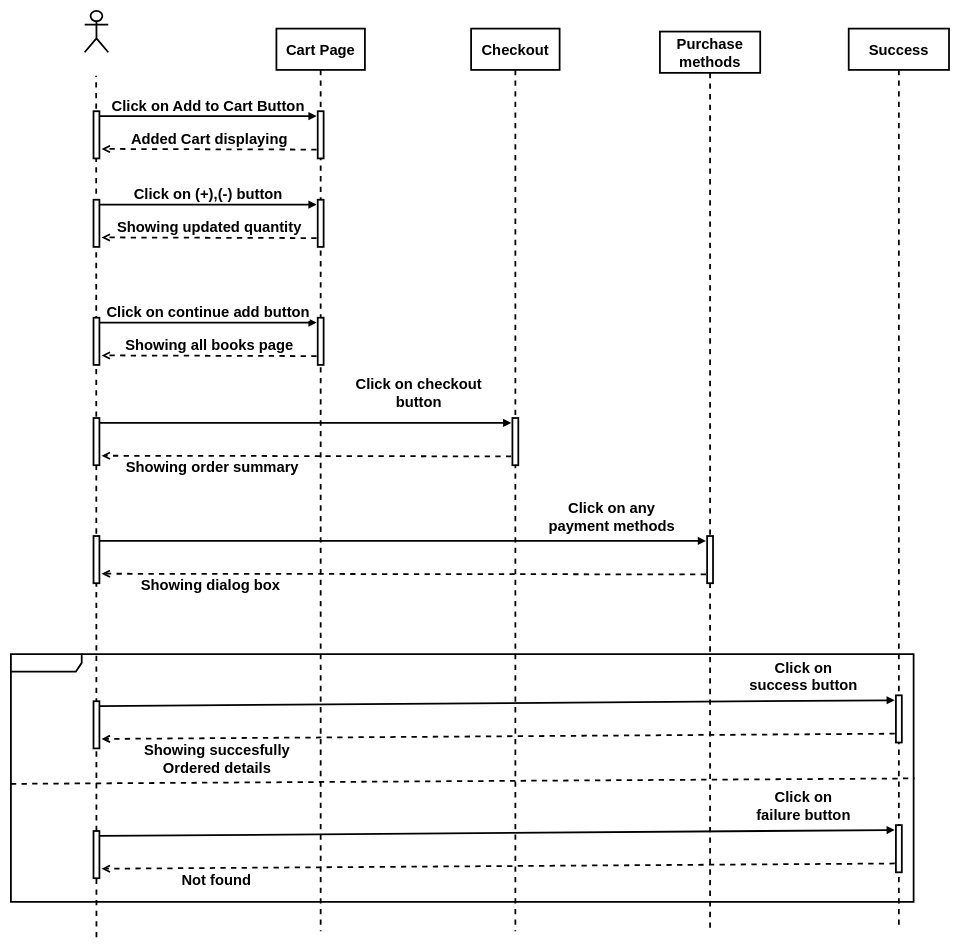
This 960x949 diagram has some shape labels left out. The centre of each missing label's shape, as x and y in pixels:
"Alternative" goes at point (462, 777).
"User" goes at point (96, 31).
